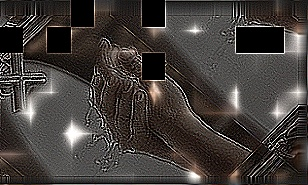washing hand: (33, 20, 201, 176)
